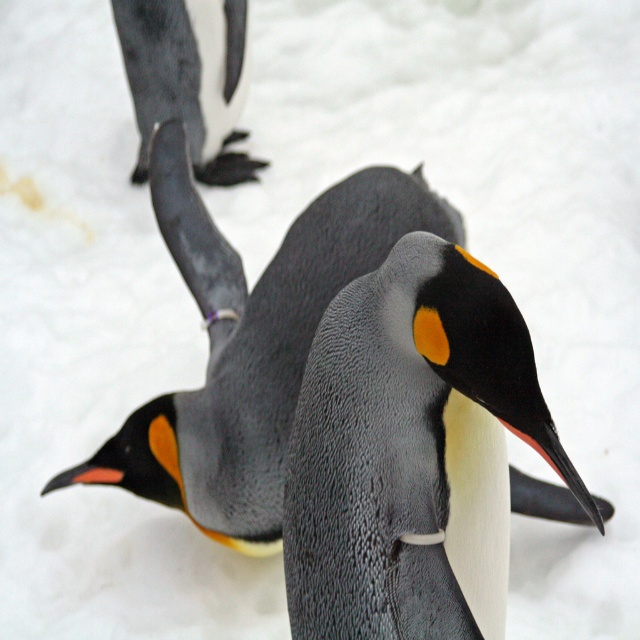Penguin: (38, 106, 471, 579), (280, 233, 608, 639), (104, 0, 266, 190)
